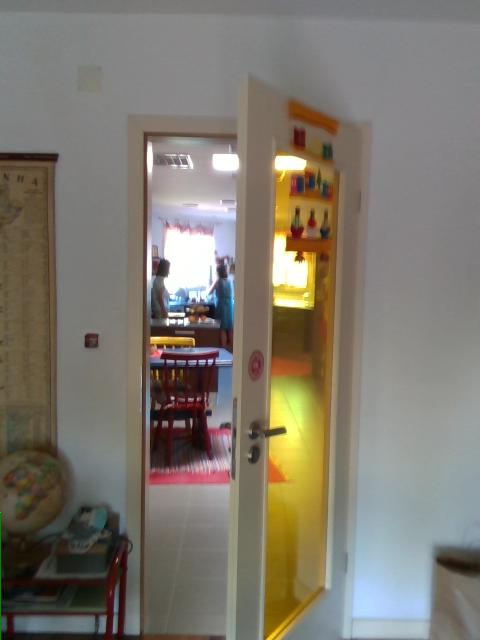semi_door: (124, 70, 369, 639)
